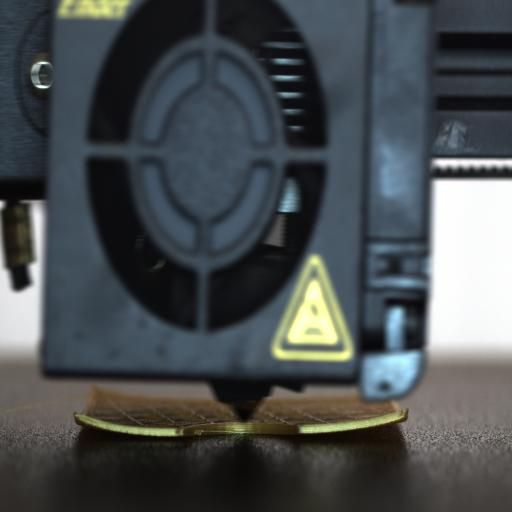warp: (72, 414, 208, 437), (282, 412, 406, 435)
